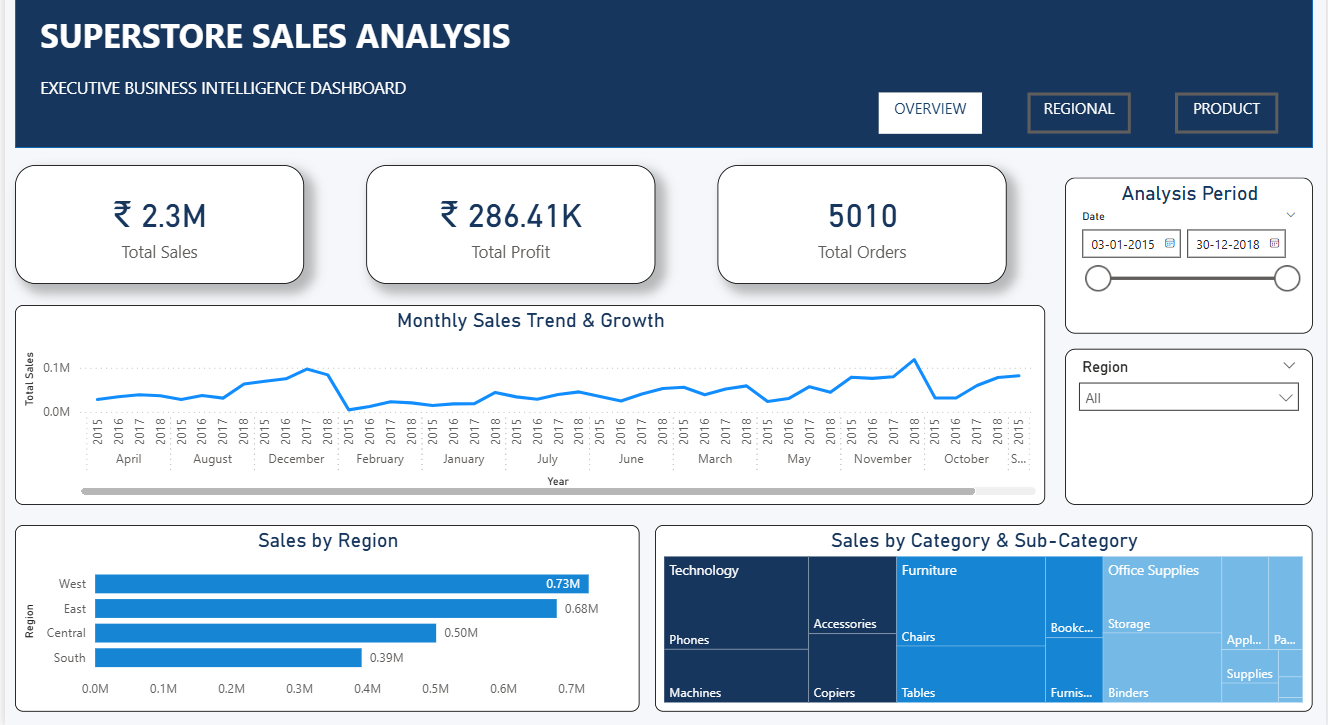

Layout of this report page (visuals, bound fields, positions):
{"tool":"powerbi","page":{"name":"Overview","canvas":[1280,720],"ordinal":0},"visuals":[{"type":"shape","box":[9.6,9.6,1257,148.2],"z":0},{"type":"textbox","box":[28.8,22,540.7,61.7],"z":1000},{"type":"textbox","box":[28.8,83.7,540.7,39.8],"z":2000},{"type":"actionButton","box":[1133.5,104.3,100.2,39.8],"z":3000},{"type":"actionButton","box":[846.7,104.3,100.2,39.8],"z":4000},{"type":"actionButton","box":[990.1,104.3,100.2,39.8],"z":5000},{"type":"textbox","box":[846.7,104.3,100.2,39.8],"z":6000},{"type":"textbox","box":[990.7,104.3,100.2,39.8],"z":7000},{"type":"textbox","box":[1133.5,104.3,100.2,39.8],"z":8000},{"type":"slicer","title":"Analysis Period","fields":{"Values":["DimDate.Date"]},"box":[1026.4,186.6,240.1,150.9],"z":9000},{"type":"slicer","fields":{"Values":["superstore_sales_processed.Region"]},"box":[1026.4,352.7,240.1,150.9],"z":10000},{"type":"card","fields":{"Values":["superstore_sales_processed.Total Sales"]},"box":[9.6,174.3,279.9,115.3],"z":11000},{"type":"card","fields":{"Values":["superstore_sales_processed.Total Profit"]},"box":[349.9,174.3,279.9,115.3],"z":12000},{"type":"card","fields":{"Values":["superstore_sales_processed.Total Orders"]},"box":[690.2,174.3,279.9,115.3],"z":13000},{"type":"lineChart","title":"Monthly Sales Trend & Growth","fields":{"Y":["superstore_sales_processed.Total Sales"],"Category":["DimDate.Month","DimDate.Year"]},"box":[9.6,310.1,997.6,193.5],"z":14000},{"type":"clusteredBarChart","title":"Sales by Region","fields":{"Category":["superstore_sales_processed.Region"],"Y":["superstore_sales_processed.Total Sales"]},"box":[9.6,522.8,605.1,181.1],"z":15000},{"type":"treemap","title":"Sales by Category & Sub-Category","fields":{"Group":["superstore_sales_processed.Category"],"Details":["superstore_sales_processed.Sub-Category"],"Values":["superstore_sales_processed.Total Sales"]},"box":[629.8,522.8,636.7,181.1],"z":16000}]}

Visuals, with their boxes in screenshot pixels (x1, y1, x2, y2):
shape: rect(13, 0, 1310, 145)
textbox: rect(33, 5, 591, 69)
textbox: rect(33, 69, 591, 110)
actionButton: rect(1172, 90, 1276, 131)
actionButton: rect(877, 90, 980, 131)
actionButton: rect(1025, 90, 1128, 131)
textbox: rect(877, 90, 980, 131)
textbox: rect(1025, 90, 1129, 131)
textbox: rect(1172, 90, 1276, 131)
"Analysis Period" slicer: rect(1062, 175, 1310, 331)
slicer - superstore_sales_processed.Region: rect(1062, 346, 1310, 502)
card - superstore_sales_processed.Total Sales: rect(13, 162, 302, 281)
card - superstore_sales_processed.Total Profit: rect(364, 162, 653, 281)
card - superstore_sales_processed.Total Orders: rect(715, 162, 1004, 281)
"Monthly Sales Trend & Growth" lineChart: rect(13, 303, 1042, 502)
"Sales by Region" clusteredBarChart: rect(13, 522, 637, 709)
"Sales by Category & Sub-Category" treemap: rect(653, 522, 1310, 709)
